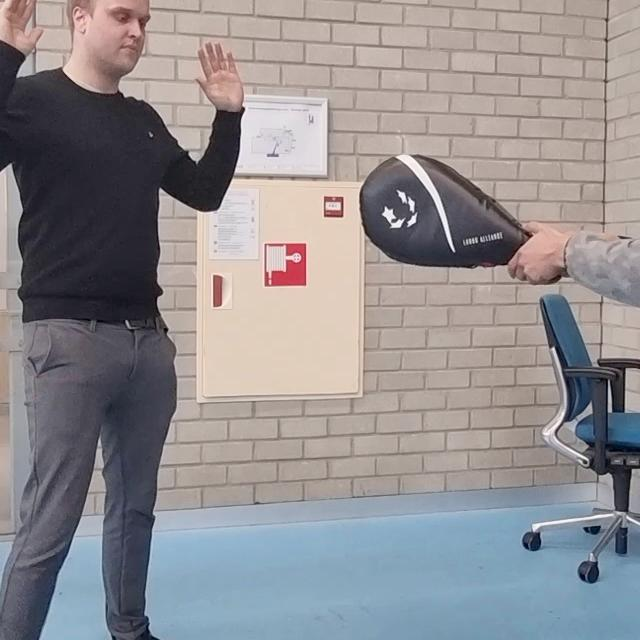paddle: (360, 154, 533, 269)
